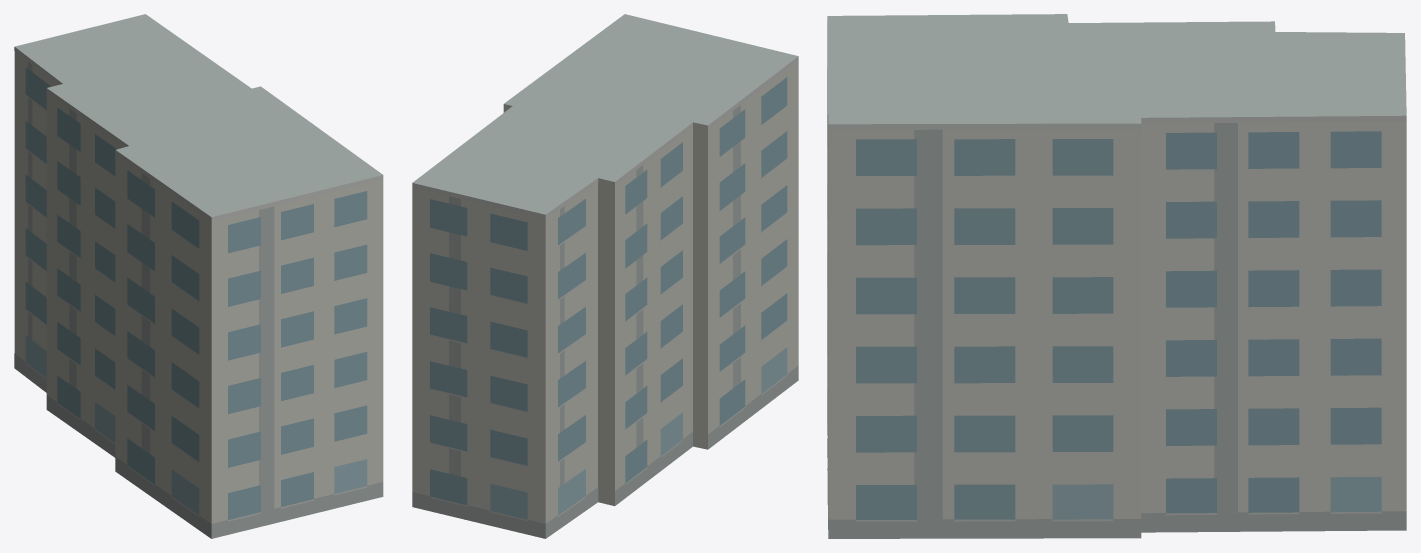
The model's file is survey-upis-32907788.glb.
3 views of the same model, side by side, from view 1: azimuth 30°, elevation 25°; view 2: azimuth 150°, elevation 25°; view 3: azimuth 270°, elevation 25° (orthographic). The views are drawn at different scales.
Parts seen in each view (by area): view 1: survey-upis-32907788.tmp; view 2: survey-upis-32907788.tmp; view 3: survey-upis-32907788.tmp.
Boxes of the visible parts, bbox=[...] form: survey-upis-32907788.tmp: bbox=[14, 14, 383, 538]; survey-upis-32907788.tmp: bbox=[412, 14, 798, 538]; survey-upis-32907788.tmp: bbox=[827, 14, 1406, 538].
Size of the model in its own units: 9.93 by 17.4 by 22.04.
